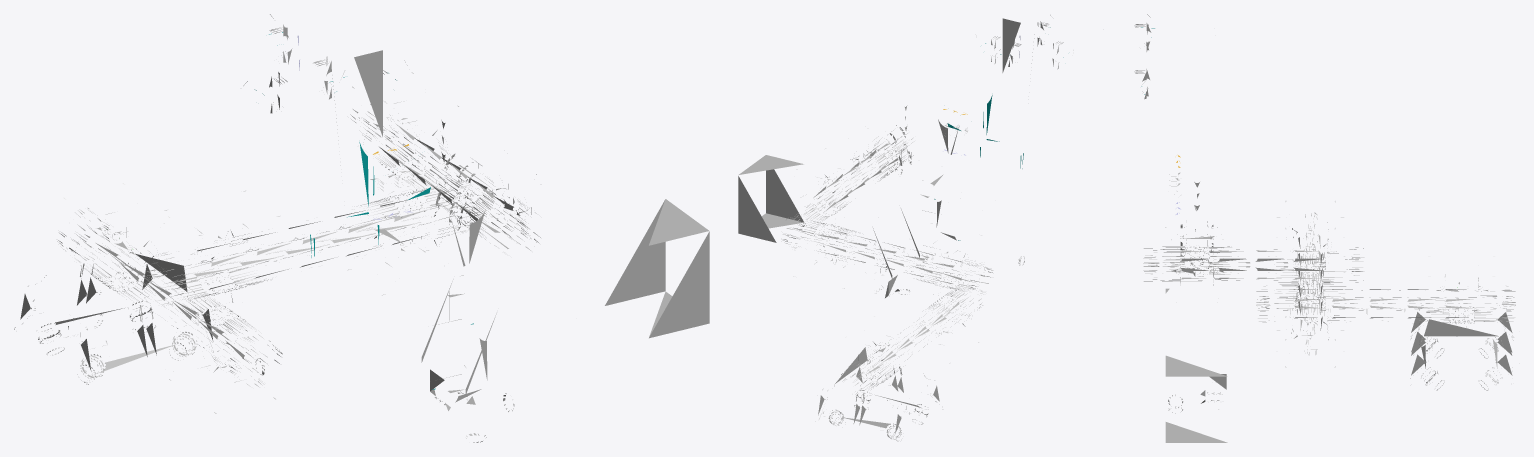
3 views of the same model, side by side, from view 1: azimuth 30°, elevation 25°; view 2: azimuth 150°, elevation 25°; view 3: azimuth 270°, elevation 25° (orthographic). The views are drawn at different scales.
Visible parts, largest first — view 1: F19721000063101014127_001_zb_ub_spanner_27_fa; view 2: F19721000063101014127_001_zb_ub_spanner_27_fa; view 3: F19721000063101014127_001_zb_ub_spanner_27_fa.
Boxes of the visible parts, x1,y1,x2,y2 form: F19721000063101014127_001_zb_ub_spanner_27_fa: (14,14,709,442); F19721000063101014127_001_zb_ub_spanner_27_fa: (738,15,1073,441); F19721000063101014127_001_zb_ub_spanner_27_fa: (1134,14,1519,442).
Bounding box in the file's own units: 313 × 331 × 299.
